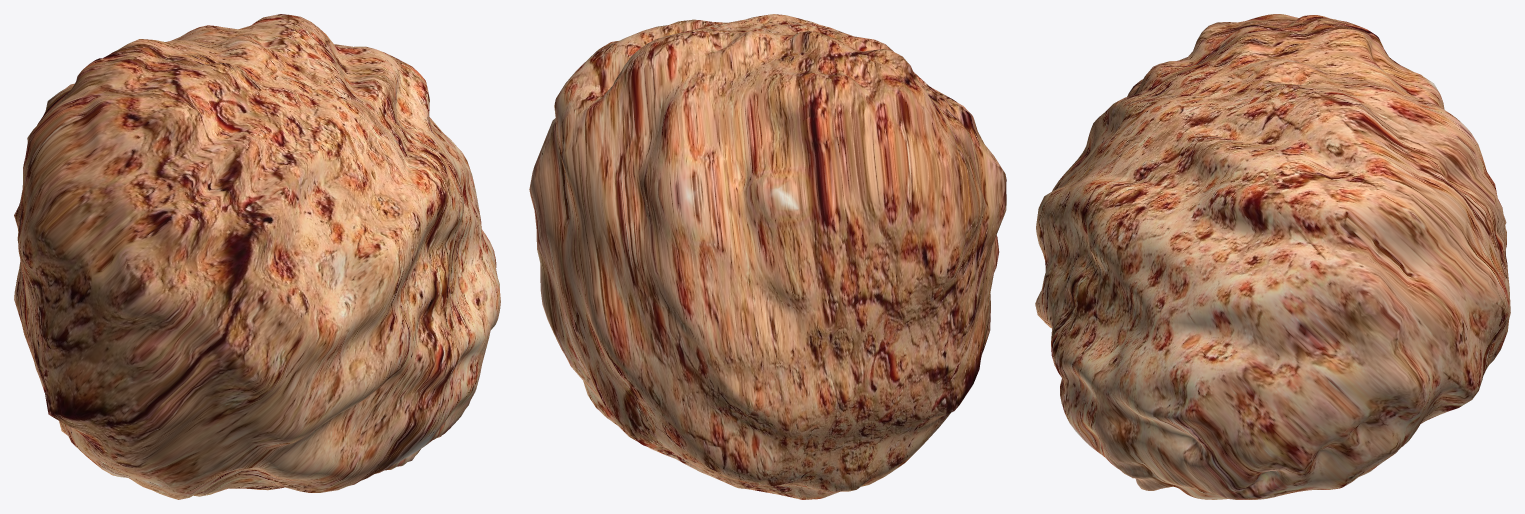
The model's file is Aluminum(Bauxite)FBX.fbx.
The picture shows the model from 3 angles, left to right: view 1: azimuth 30°, elevation 25°; view 2: azimuth 150°, elevation 25°; view 3: azimuth 270°, elevation 25°; orthographic projection. The views are drawn at different scales.
Parts seen in each view (by area): view 1: pSphere2; view 2: pSphere2; view 3: pSphere2.
Part boxes in pixels (bbox=[...]): pSphere2: bbox=[14, 14, 500, 499]; pSphere2: bbox=[529, 14, 1006, 499]; pSphere2: bbox=[1035, 14, 1510, 499].
Size of the model in its own units: 9.59 by 9.43 by 9.64.
